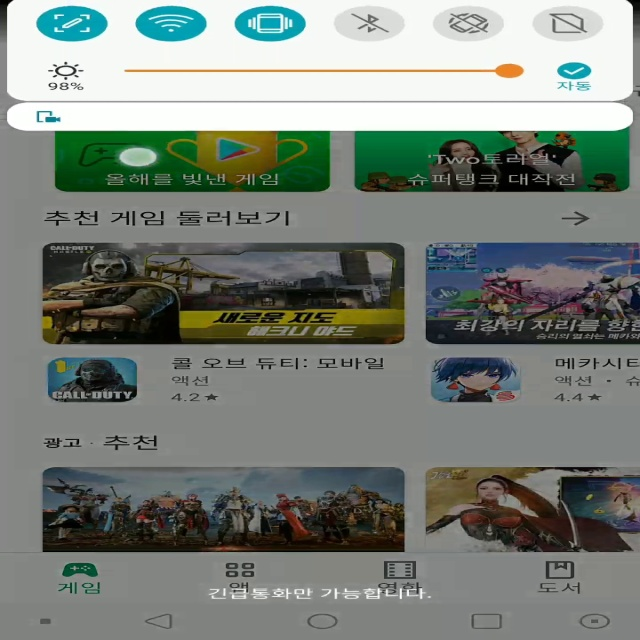Cursor: (116, 147, 160, 169)
